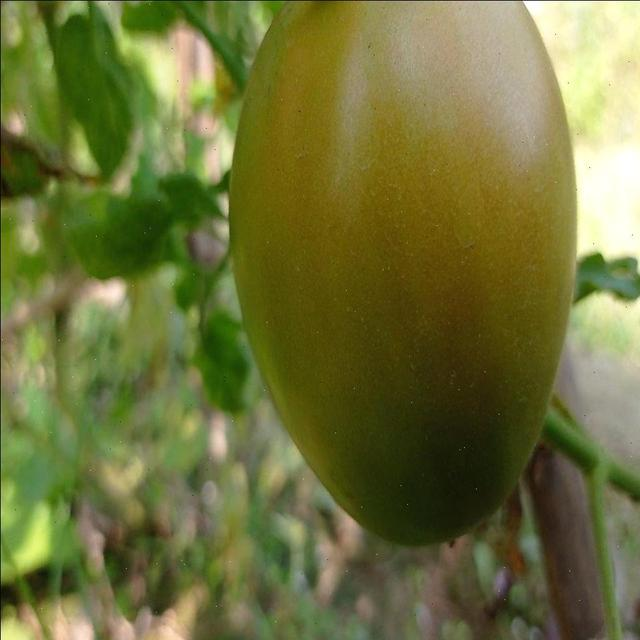Healthy Fruit: (147, 0, 396, 372)
